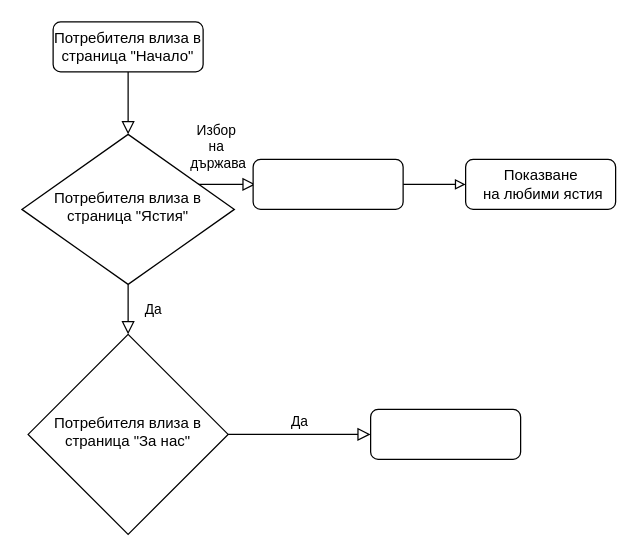
The diagram is 638 pixels wide and 556 high, and some of its shapes have lost their labels. Each missing label, with the centre of its shape:
"Показва информация за приложението" belongs at pixel 445 433.
"Показване на ястия от избраната държава" belongs at pixel 327 183.
